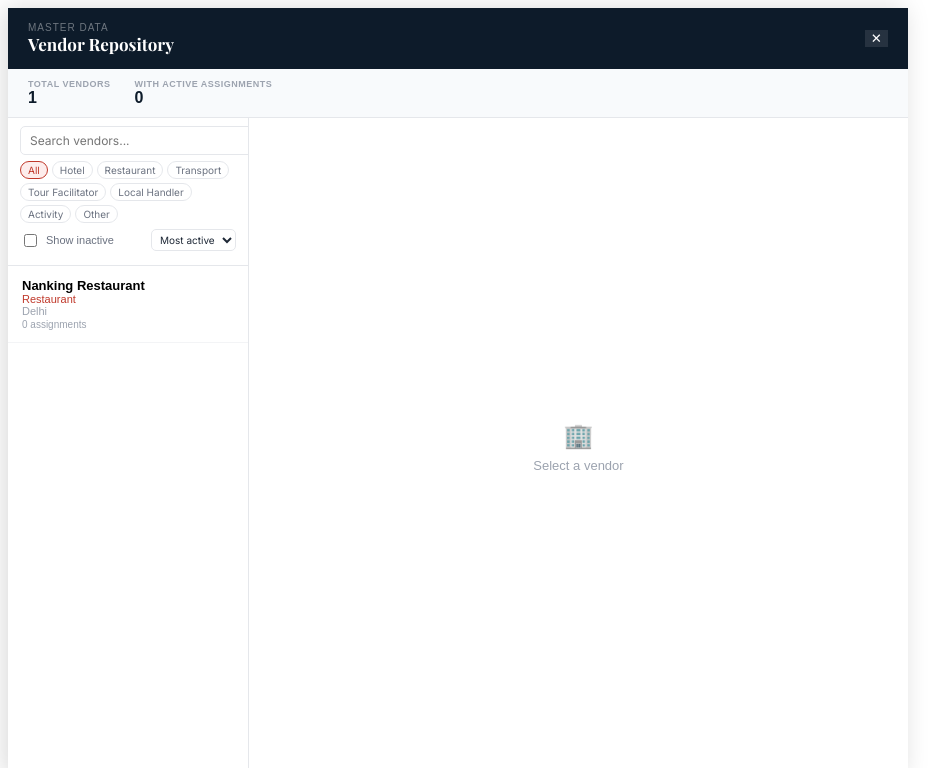
Test: VendorMaster (item 1): Financial Ledger tour file references are now clickable too › clicking a tour file badge in the Financial Ledger opens that query
The width and height of the screenshot is (928, 768).
Click the text "Nanking Restaurant" at [83, 286], box x1=22 y1=278 x2=145 y2=293
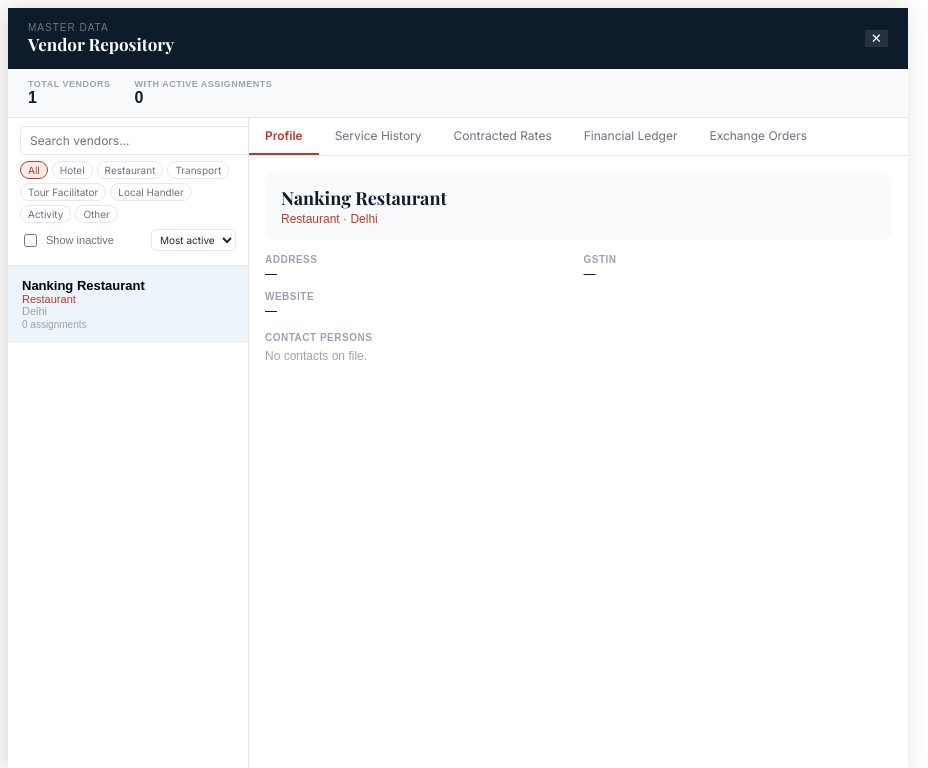
Click the button "Financial Ledger" at [631, 136], box x1=568 y1=118 x2=693 y2=155
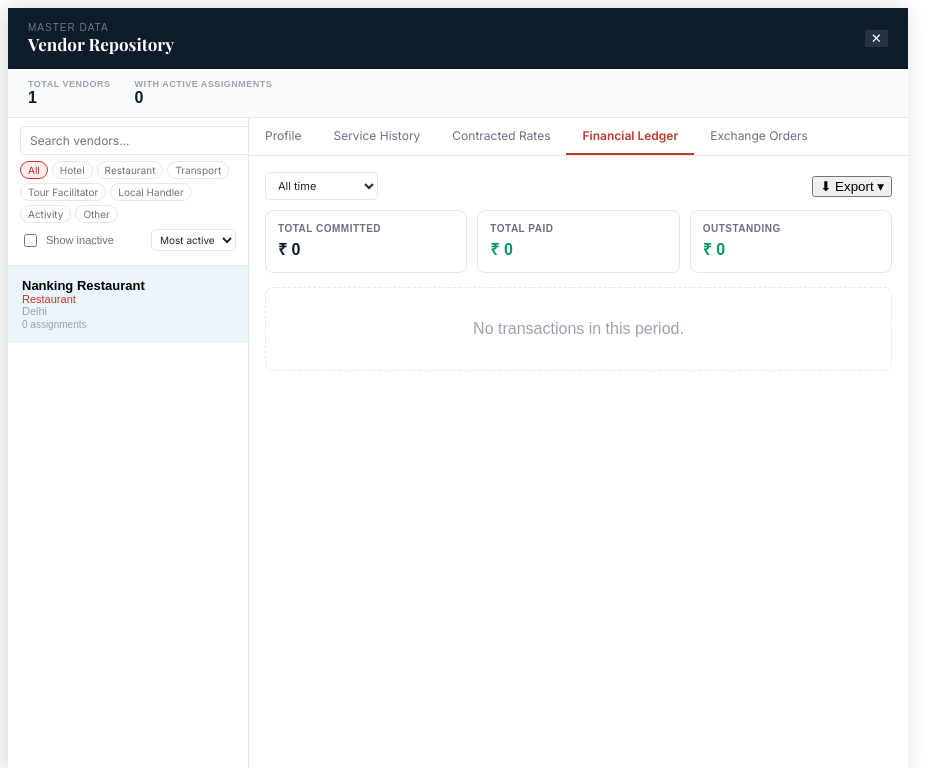
Now the text "No transactions in this period." is shown, box x1=265 y1=287 x2=892 y2=371
